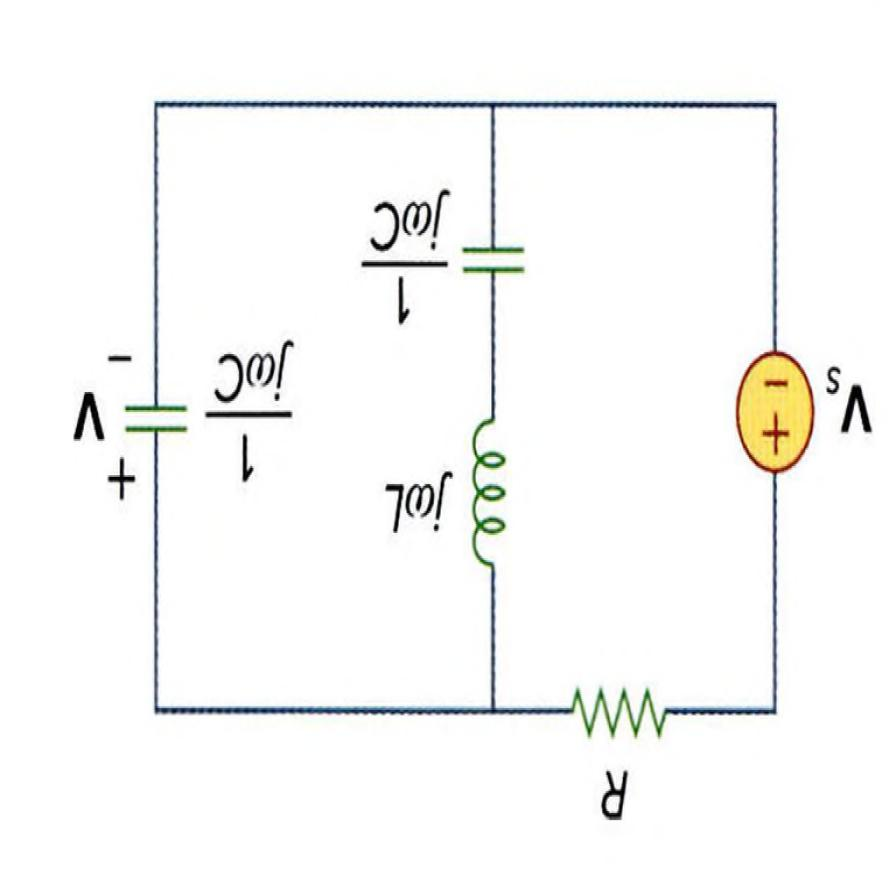C2: (116, 389, 192, 452)
V3: (724, 337, 820, 484)
